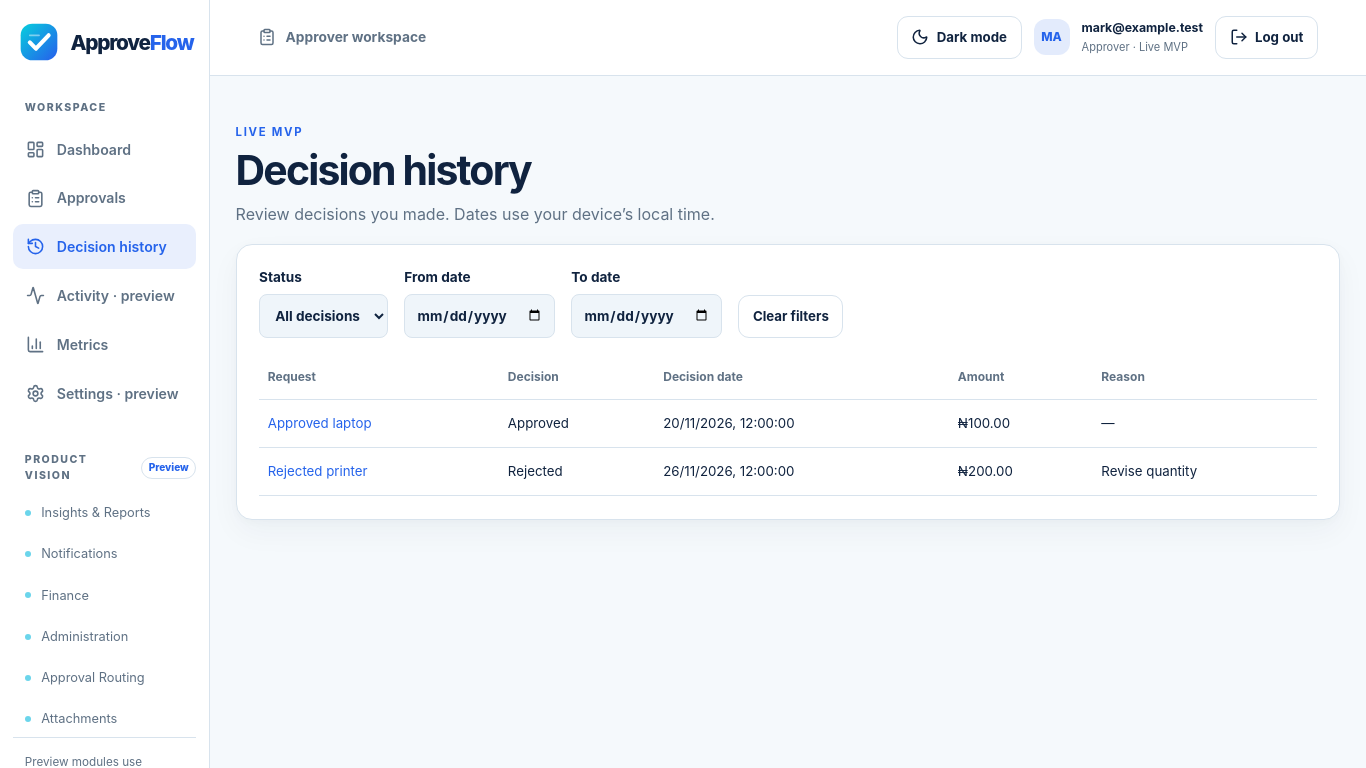
Test: G3 user journeys › shows an approver’s live decisions and filters by decision and date
The image size is (1366, 768).
Expected: the text "Revise quantity" is shown, [1092,448,1317,496]
Select "Rejected" in the dropdown labelled "Status" at coordinates (324, 316), box [259,294,388,338]
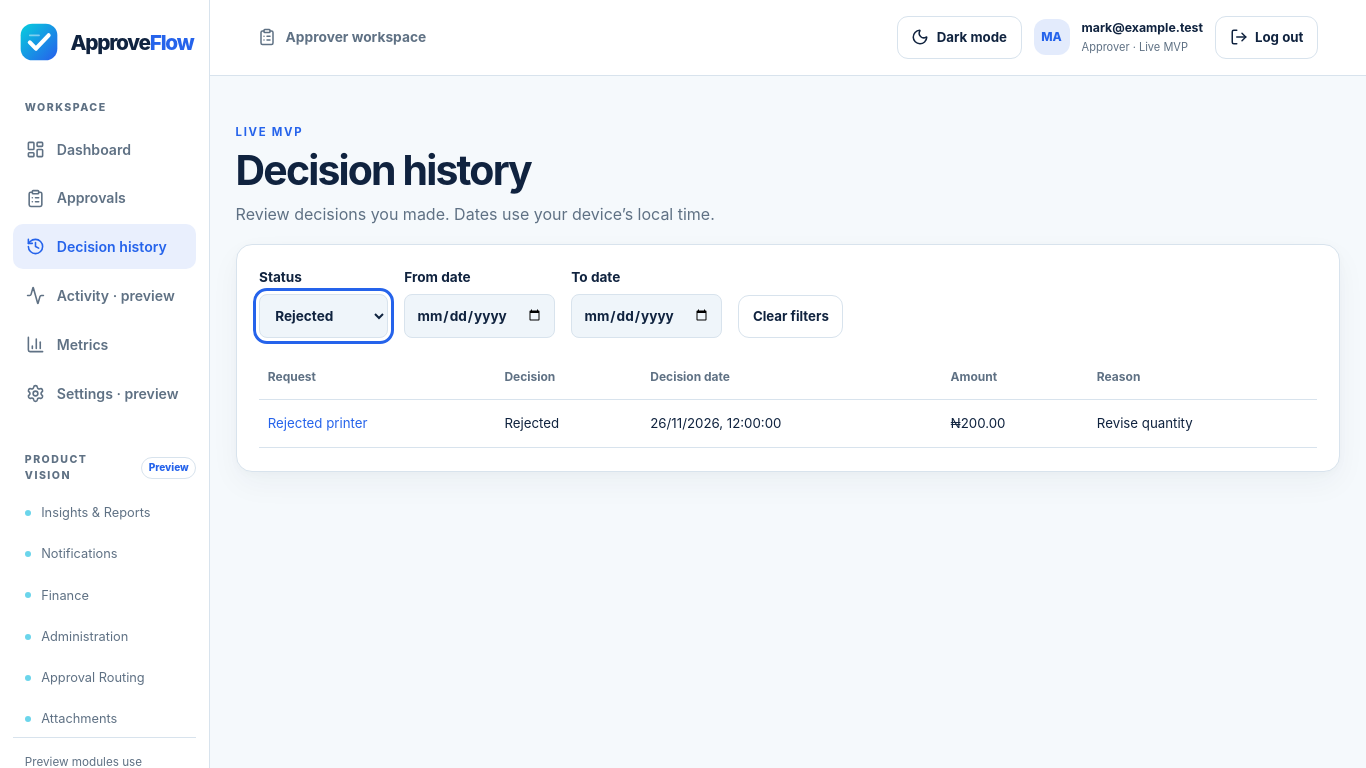
Expected: the link "Approved laptop" is gone
Type "2026-11-27" into the date field labelled "From date" at coordinates (480, 316), box [404,294,555,338]
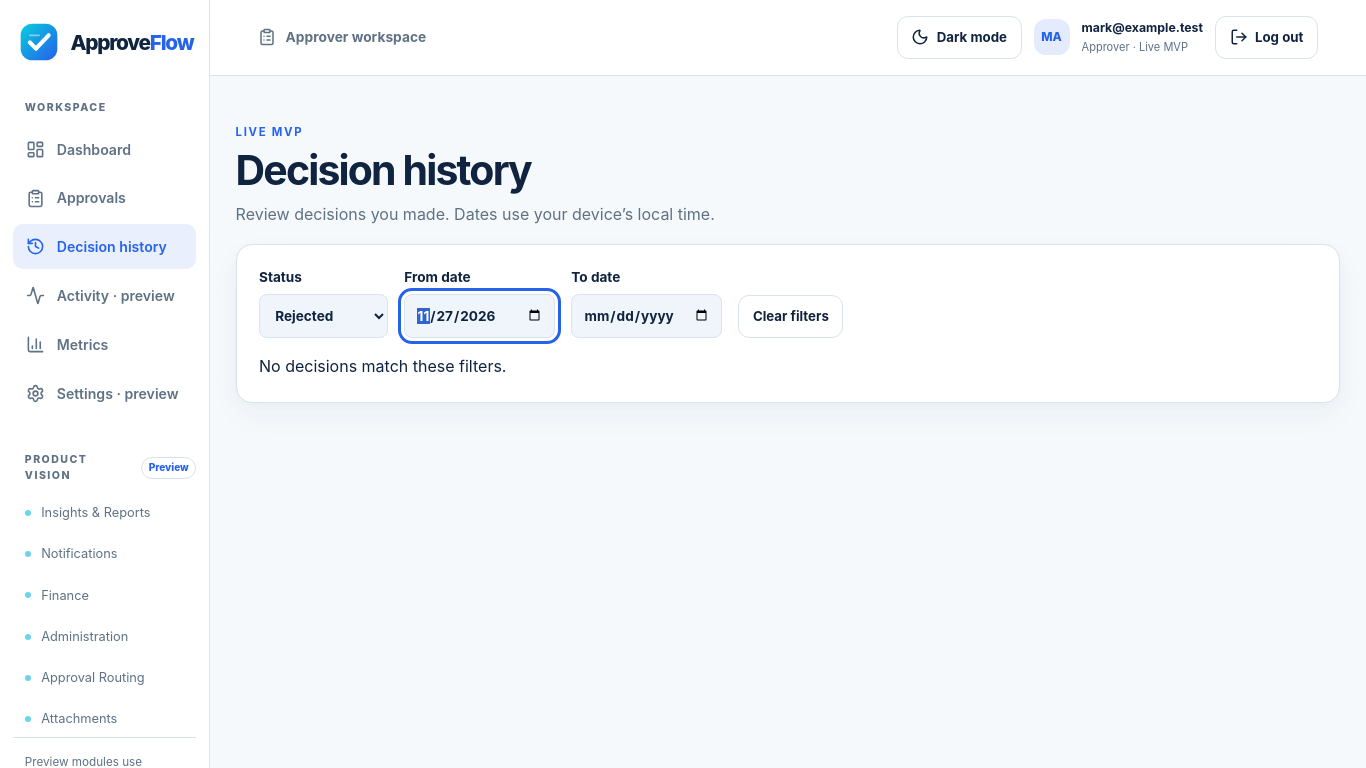
Expected: the text "No decisions match these filters." is shown, [259,356,506,376]
Type "2026-11-20" into the date field labelled "To date" at coordinates (647, 316), box [571,294,722,338]
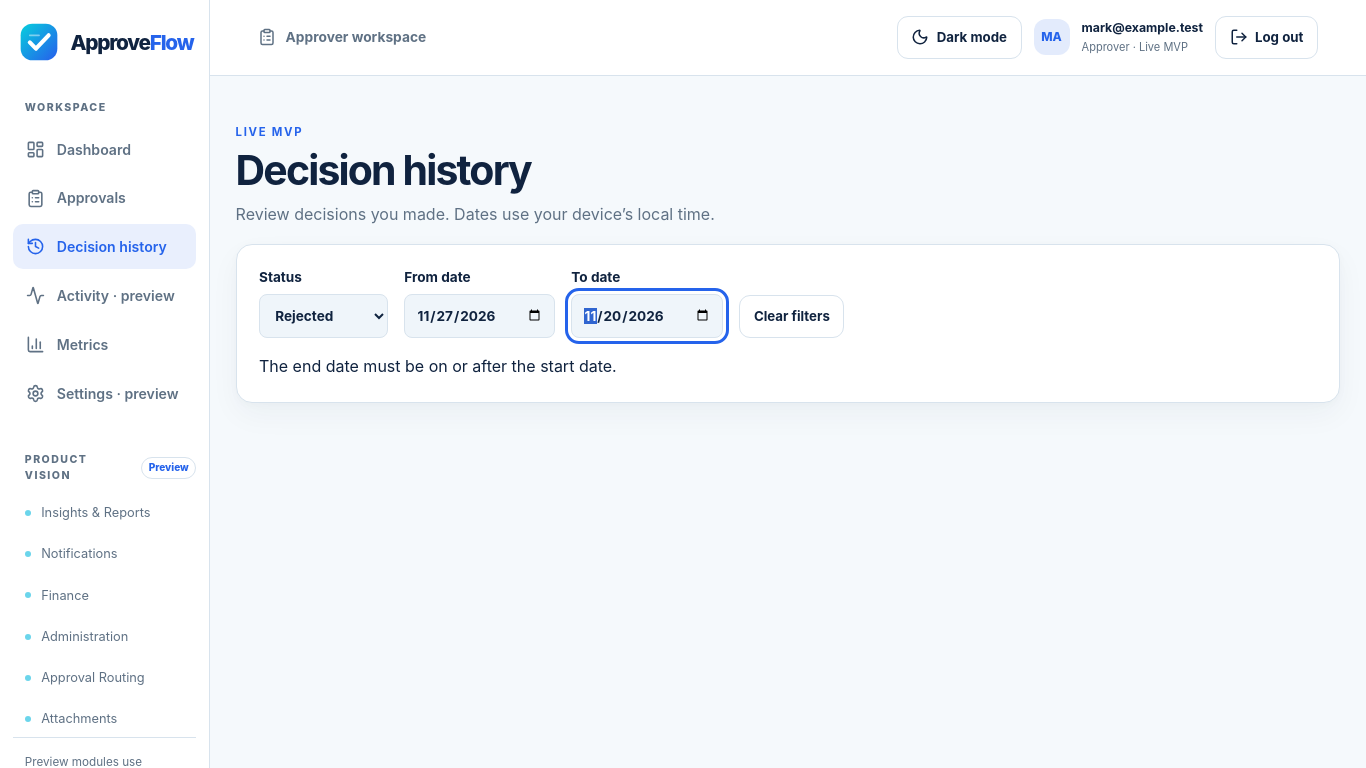
Expected: the message shows "end date", [259,356,617,376]
Click the button "Clear filters" at coordinates (792, 317), box [739,295,844,338]
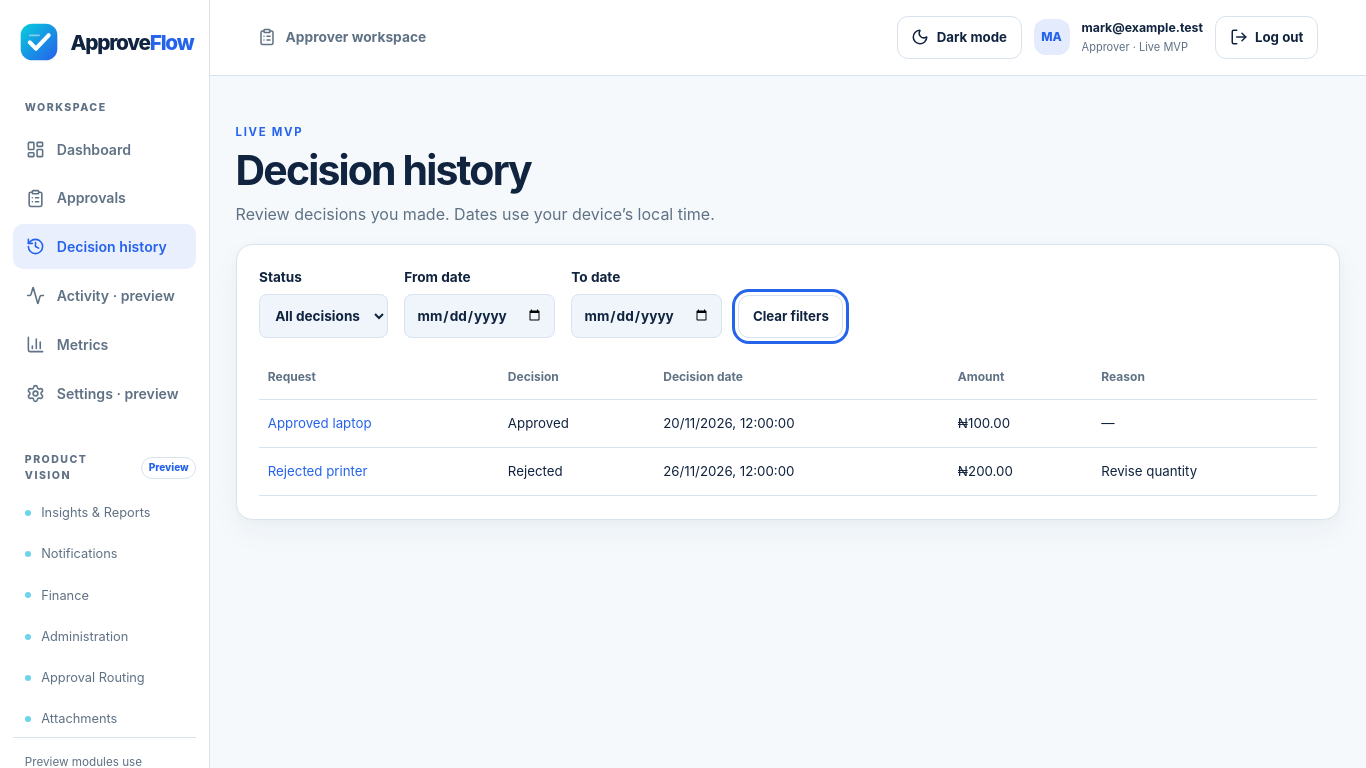
Expected: the date field labelled "From date" is empty, [404,294,555,338]
Expected: the date field labelled "To date" is empty, [571,294,722,338]
Expected: the link "Approved laptop" is shown, [268,415,372,431]
